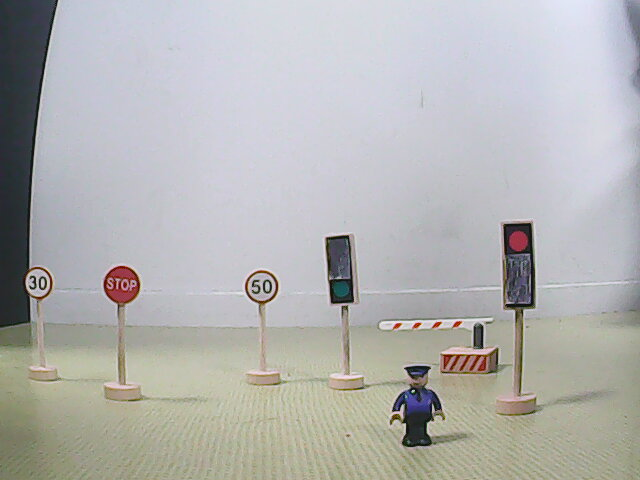barrier: (377, 316, 501, 375)
green_traffic_sign: (325, 234, 357, 304)
person: (388, 365, 449, 447)
red_traffic_sign: (501, 221, 535, 311)
sign_30: (23, 266, 55, 301)
sign_50: (244, 269, 280, 306)
stop_sign: (102, 265, 142, 306)
